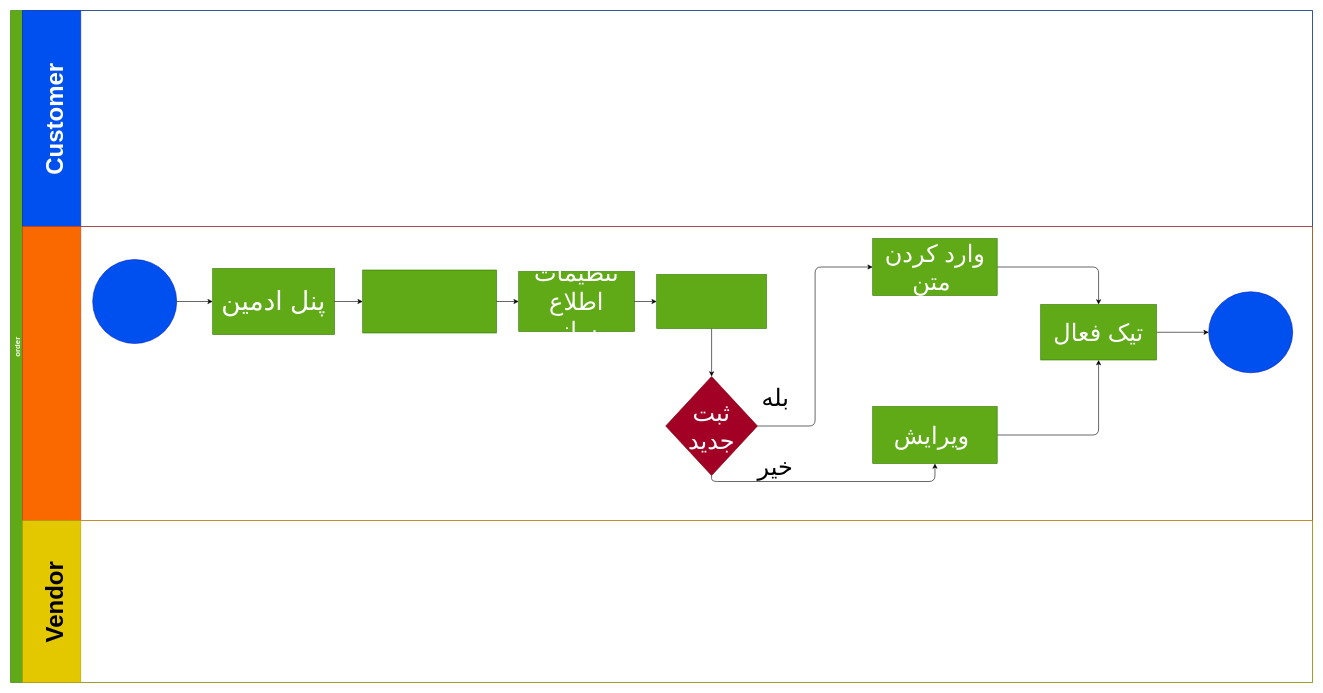
The diagram is 1323 pixels wide and 693 high, and some of its shapes have lost their labels. The box of each missing label's shape, as (x1, y1, x2, y2) in pixels:
Postex: (22, 226, 1312, 520)
انتخاب نوع اطلاع رسانی: (656, 274, 766, 328)
تنظیمات: (362, 269, 496, 333)
شروع: (92, 259, 177, 344)
پایان: (1208, 291, 1293, 373)
